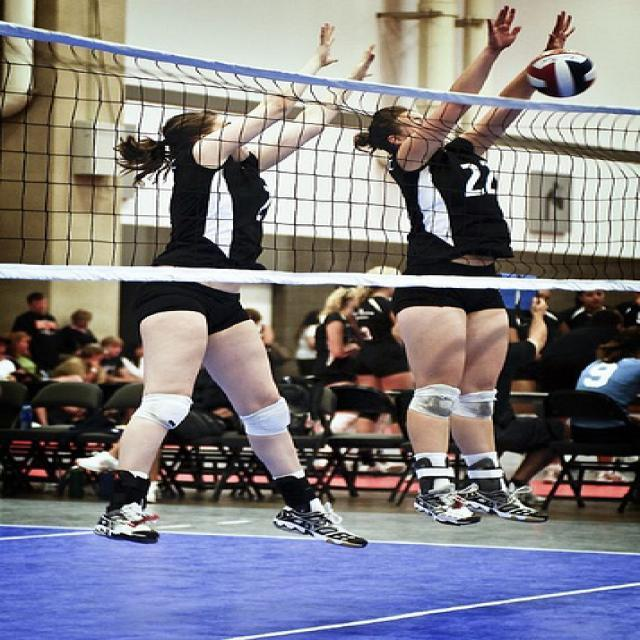volleyball: (528, 48, 595, 98)
